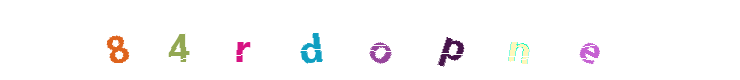4: (137, 0, 217, 80)
8: (77, 0, 157, 80)
D: (291, 0, 371, 80)
E: (441, 0, 521, 80)
N: (411, 0, 491, 80)
O: (331, 0, 411, 80)
P: (361, 0, 441, 80)
R: (282, 0, 362, 80)
